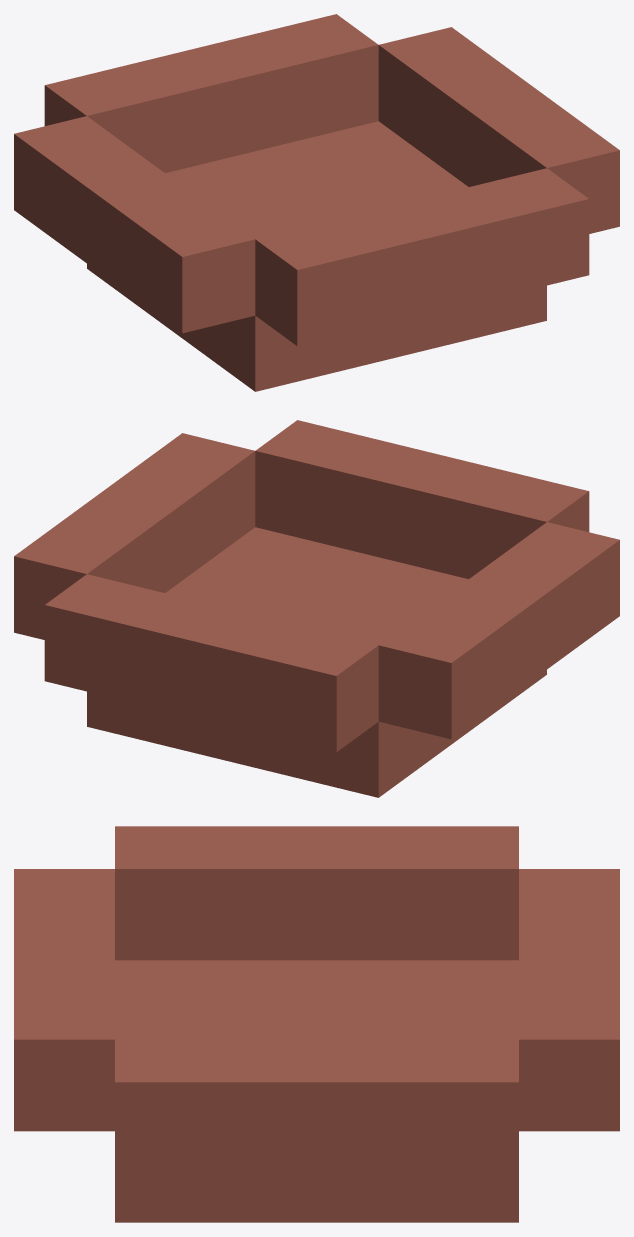
File: Boat_Booth-3-Plate_empty.obj
3 renders of one model, top to bottom at view 1: azimuth 30°, elevation 25°; view 2: azimuth 150°, elevation 25°; view 3: azimuth 270°, elevation 25°, orthographic. The views are drawn at different scales.
Visible parts, largest first — view 1: Plate_empty; view 2: Plate_empty; view 3: Plate_empty.
Boxes of the visible parts, bbox=[...] form: Plate_empty: bbox=[14, 14, 619, 391]; Plate_empty: bbox=[14, 420, 619, 797]; Plate_empty: bbox=[14, 826, 619, 1222].
Size of the model in its own units: 0.12 by 0.04 by 0.12.
1 material, 1 textured.
